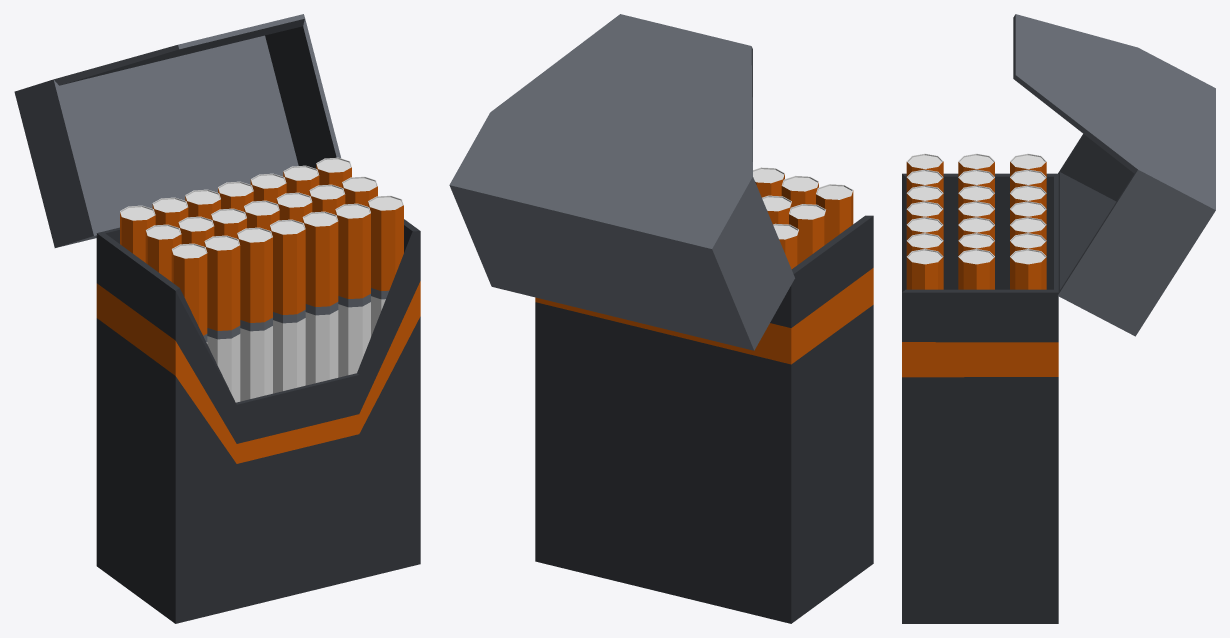
The model's file is br_cigs.glb.
The picture shows the model from 3 angles, left to right: view 1: azimuth 30°, elevation 25°; view 2: azimuth 150°, elevation 25°; view 3: azimuth 270°, elevation 25°; orthographic projection. The views are drawn at different scales.
Visible parts, largest first — view 1: Cube.002, Cube.003, Cylinder; view 2: Cube.002, Cube.003, Cylinder; view 3: Cube.002, Cube.003, Cylinder.
Boxes of the visible parts, left/top/right/bottom form: Cube.002: left=96, top=219, right=420, bottom=623; Cube.003: left=14, top=14, right=340, bottom=247; Cylinder: left=120, top=157, right=403, bottom=402; Cube.002: left=535, top=215, right=873, bottom=623; Cube.003: left=449, top=14, right=794, bottom=350; Cylinder: left=753, top=167, right=853, bottom=269; Cube.002: left=902, top=173, right=1058, bottom=623; Cube.003: left=1013, top=14, right=1215, bottom=336; Cylinder: left=906, top=153, right=1046, bottom=289.
Size of the model in its own units: 0.1225 by 0.2434 by 0.1332.
1 material, 1 textured.
